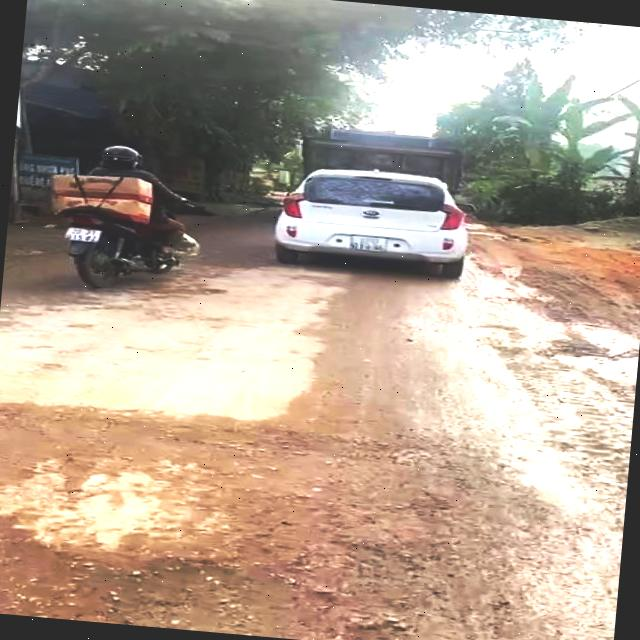pothole: (0, 506, 370, 640), (0, 401, 397, 504), (547, 346, 638, 384)
